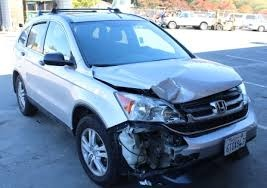Dent: (149, 79, 196, 105)
Smashed: (109, 121, 201, 176)
